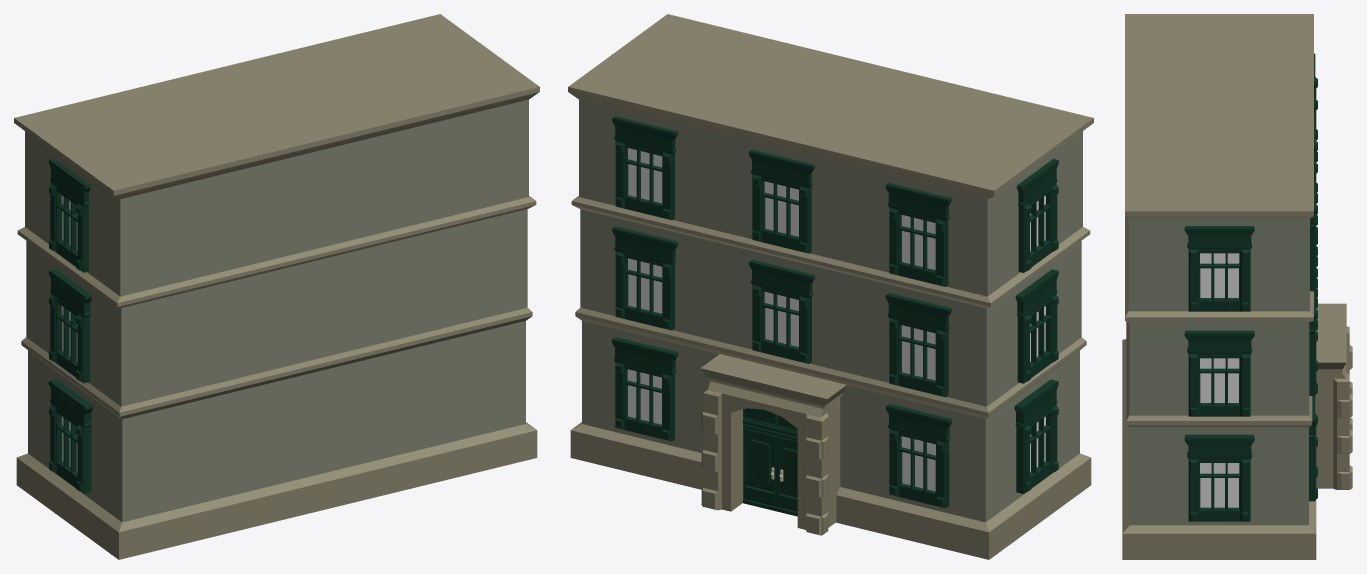
The model's file is AppartmentbuildingA_model.fbx.
3 views of the same model, side by side, from view 1: azimuth 30°, elevation 25°; view 2: azimuth 150°, elevation 25°; view 3: azimuth 270°, elevation 25° (orthographic). The views are drawn at different scales.
Parts seen in each view (by area): view 1: AppartmentbuildingA_model; view 2: AppartmentbuildingA_model; view 3: AppartmentbuildingA_model.
Boxes of the visible parts, x1=… form: AppartmentbuildingA_model: x1=14, y1=14, x2=539, y2=559; AppartmentbuildingA_model: x1=568, y1=14, x2=1093, y2=559; AppartmentbuildingA_model: x1=1122, y1=14, x2=1352, y2=559.
Bounding box in the file's own units: 1147 × 566 × 950.
